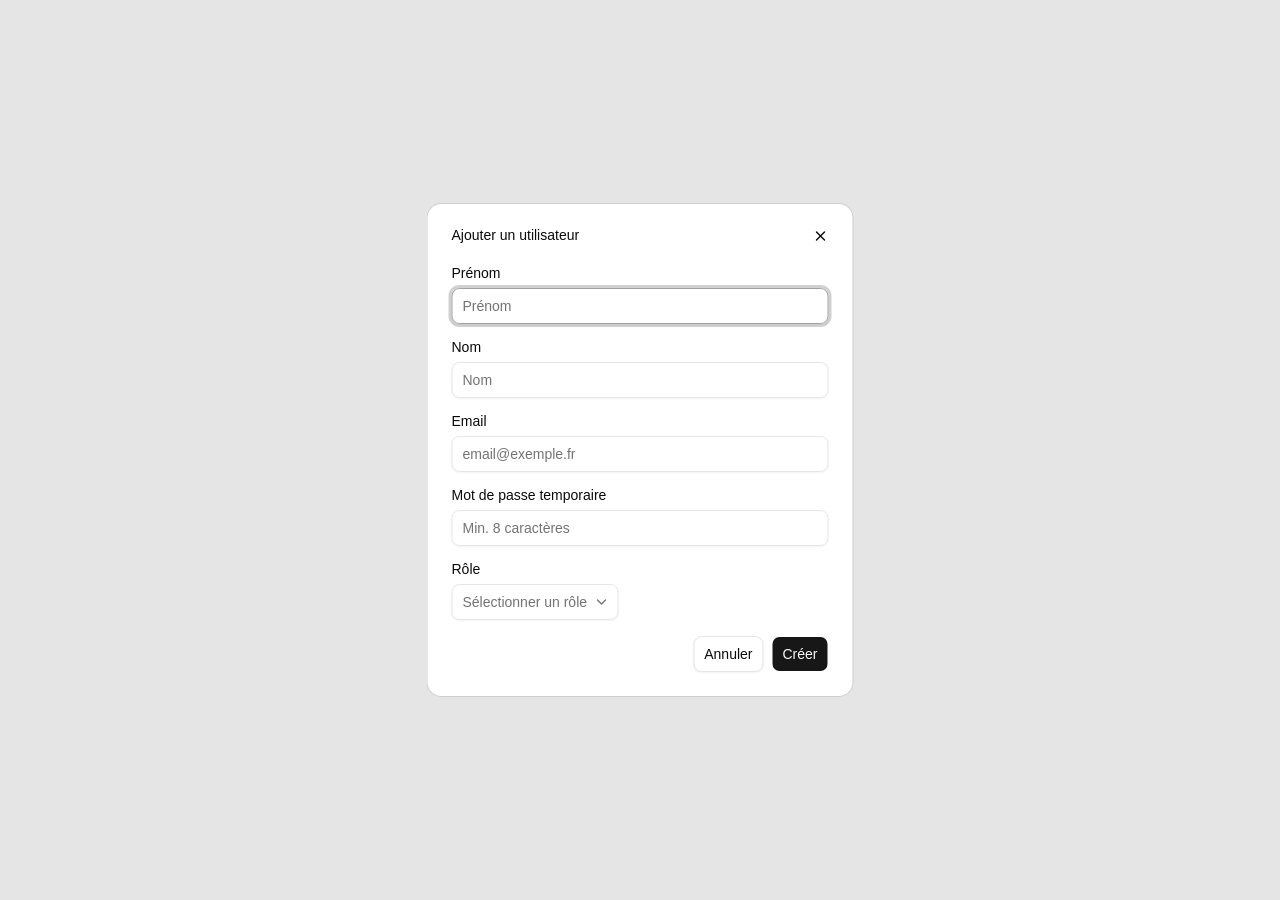
CreateUserDialog › shows validation error for short password
This screenshot has width=1280, height=900.
Type "short" into the password field labelled "Mot de passe temporaire" at (640, 528), box [452,510,828,546]
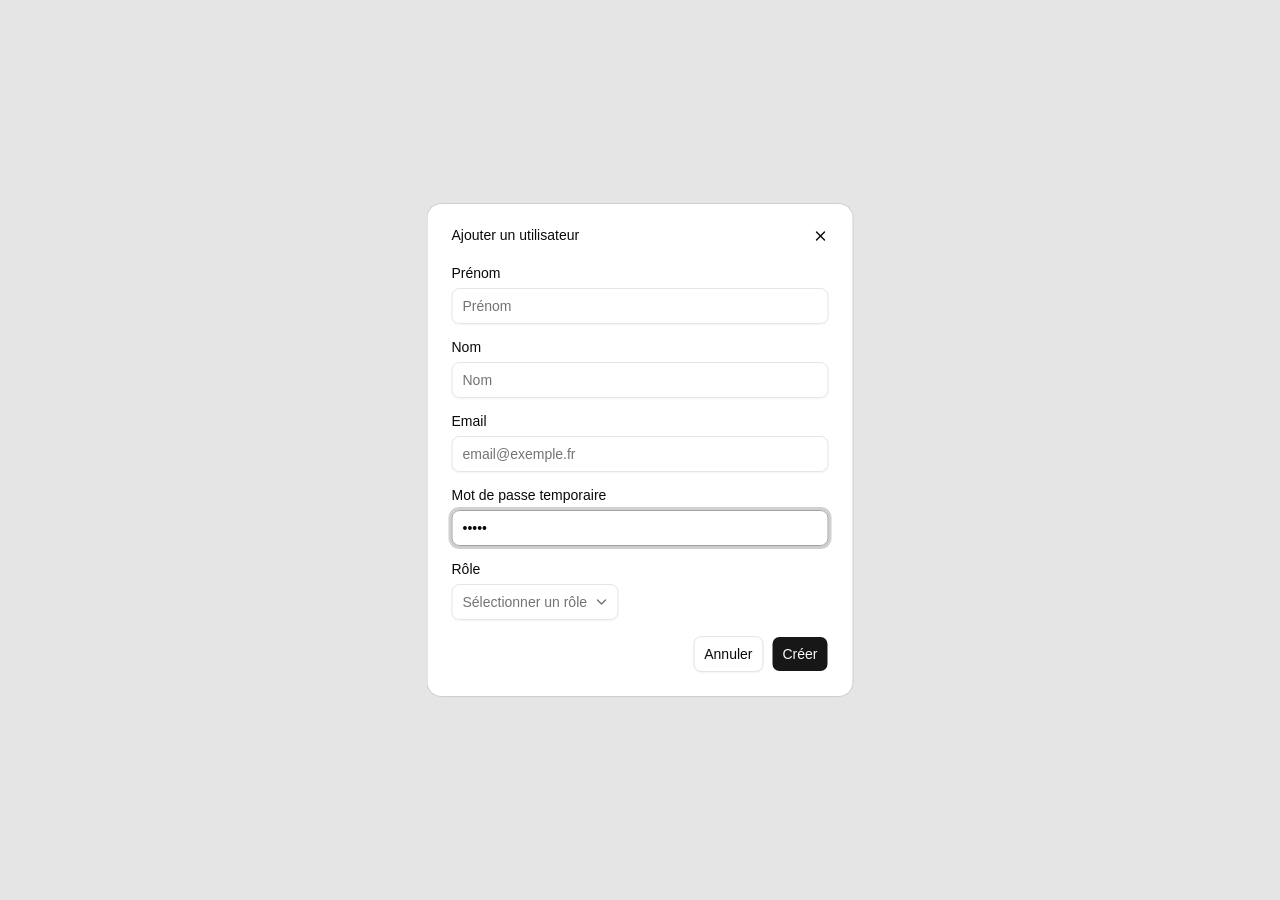
Click the button "Créer" at (800, 654), box [772,636,828,672]
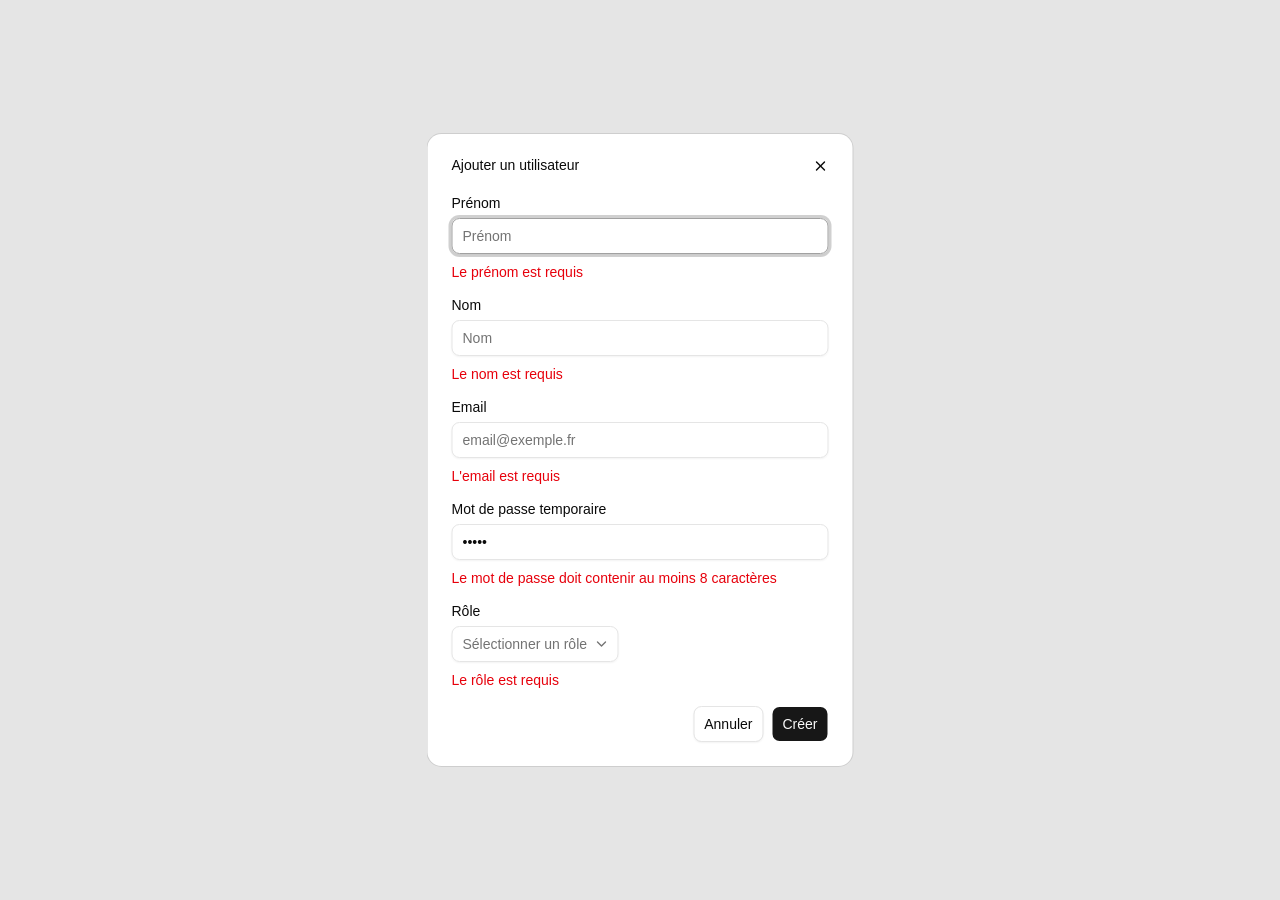
Expected: the text "Le mot de passe doit contenir au moins 8 caractères" is shown, [452,568,828,588]
